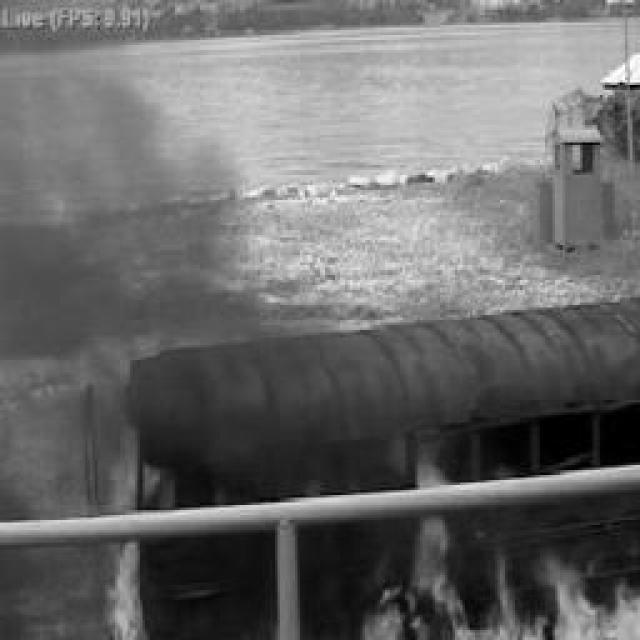Fire: (354, 545, 640, 640), (92, 429, 196, 640), (381, 433, 469, 483)
